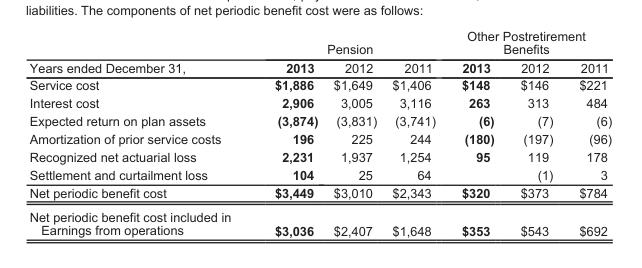table: (28, 28, 611, 237)
table column: (28, 28, 252, 237), (252, 28, 325, 237), (383, 28, 447, 237), (447, 28, 506, 237), (506, 28, 565, 237), (325, 28, 383, 237), (565, 28, 611, 237)
table column header: (28, 28, 611, 76)
table row: (28, 204, 611, 237), (28, 28, 611, 57), (28, 183, 611, 204), (28, 57, 611, 76), (28, 93, 611, 111), (28, 111, 611, 129), (28, 129, 611, 147), (28, 147, 611, 165), (28, 165, 611, 183), (28, 76, 611, 93)
table spanning cell: (28, 28, 252, 76), (252, 28, 447, 57), (447, 28, 611, 57)
